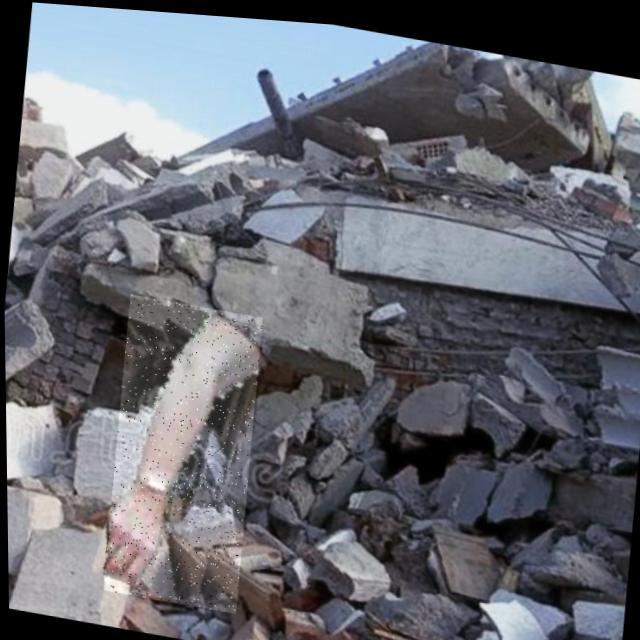Person in Rubble: (97, 290, 265, 612)
